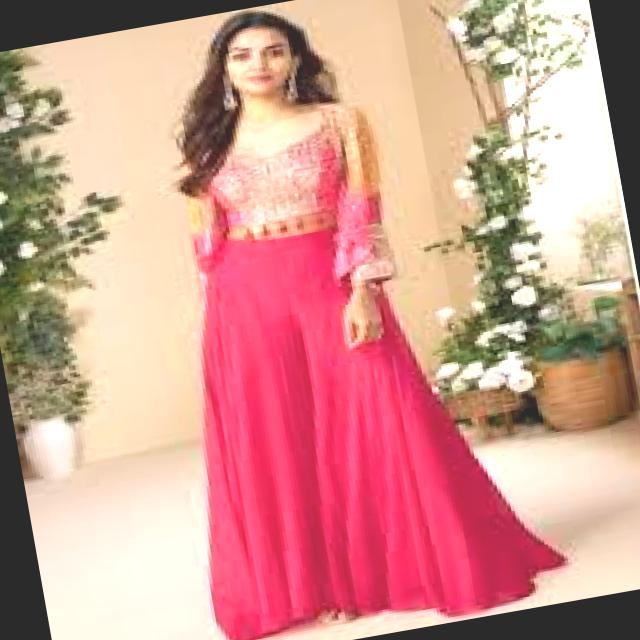dress: (189, 103, 567, 639)
